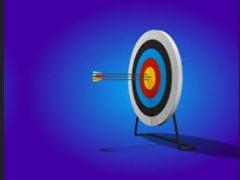bulls eye: (126, 29, 183, 129)
